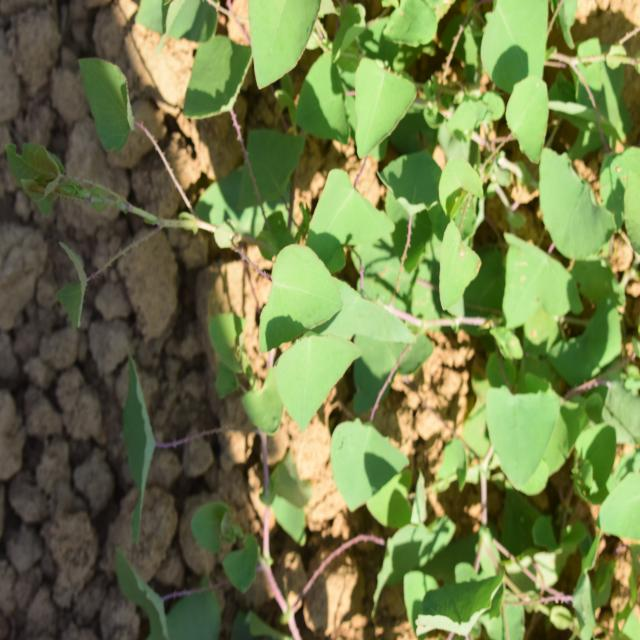Asiatic_Smartweed: (245, 248, 420, 506), (23, 67, 217, 296), (314, 28, 493, 264), (121, 360, 180, 536)
